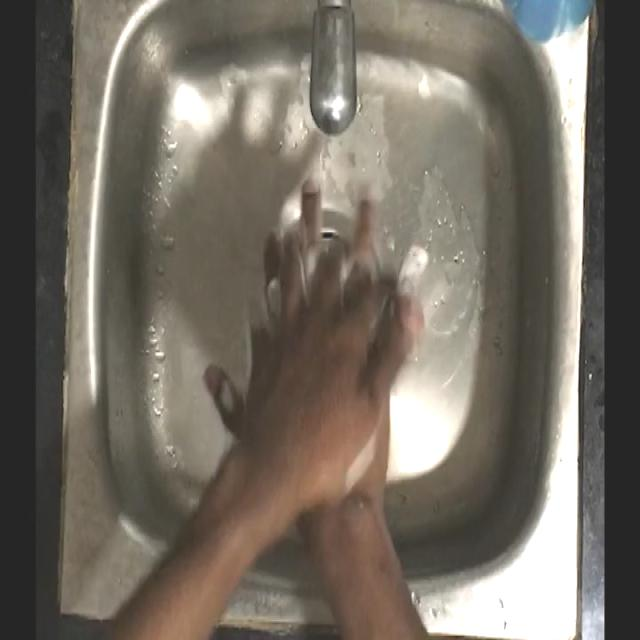step_2: (205, 174, 428, 478)
